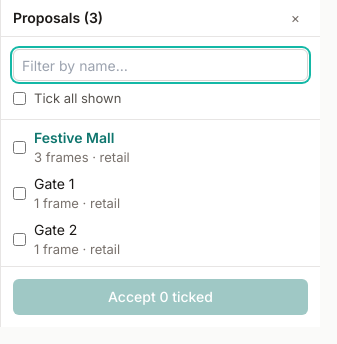
Test: ProposalDrawer › accepts the ticked ones together
Click the checkbox named "Tick Gate 1" at {"x": 20, "y": 193}, box [13,186,26,200]
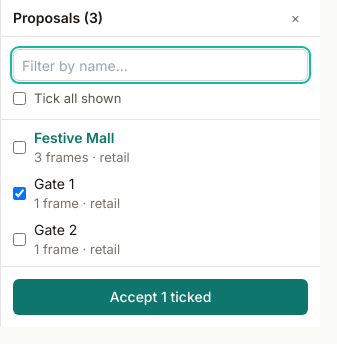
Click the checkbox named "Tick Gate 2" at {"x": 20, "y": 239}, box [13,232,26,246]
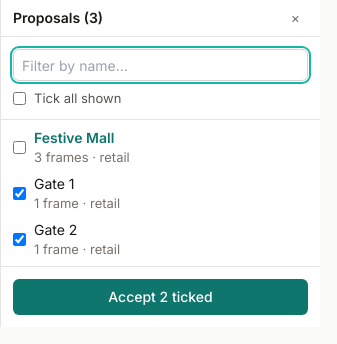
Click the button "Accept 2 ticked" at {"x": 160, "y": 297}, box [13,279,308,315]
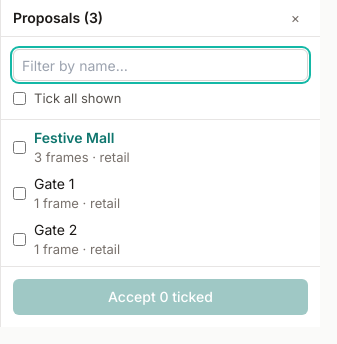
expect the button "Accept 0 ticked" is disabled: met, box [13,279,308,315]
